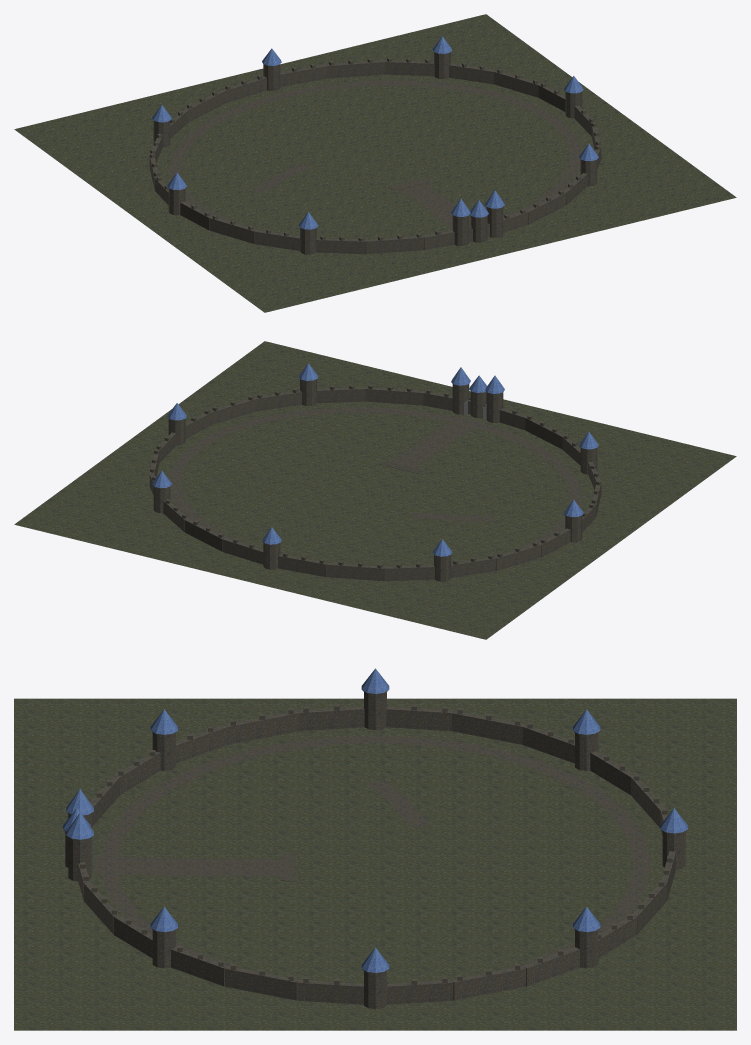
File: precinct.gltf
The picture shows the model from 3 angles, top to bottom: view 1: azimuth 30°, elevation 25°; view 2: azimuth 150°, elevation 25°; view 3: azimuth 270°, elevation 25°; orthographic projection. The views are drawn at different scales.
Parts seen in each view (by area): view 1: precinct; view 2: precinct; view 3: precinct.
Part boxes in pixels (bbox=[...]): precinct: bbox=[14, 14, 736, 312]; precinct: bbox=[14, 341, 736, 639]; precinct: bbox=[14, 668, 736, 1030].
Bounding box in the file's own units: 100 × 9 × 92.
